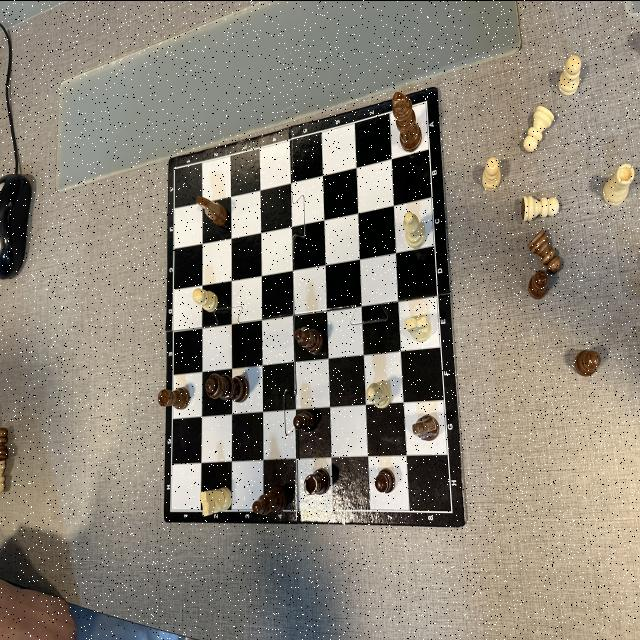Black-Bishop: (252, 485, 287, 514), (295, 326, 324, 354)
Black-King: (392, 91, 422, 151)
Black-Knight: (196, 193, 228, 226), (412, 414, 439, 440)
Black-Pawn: (528, 229, 562, 273), (575, 348, 600, 376), (528, 270, 549, 298), (374, 467, 396, 492), (293, 411, 317, 431)
Black-Queen: (206, 372, 250, 402)
Black-Rook: (304, 467, 329, 495), (158, 388, 190, 408)
White-Bishop: (403, 210, 426, 248), (367, 380, 391, 408)
White-Knight: (201, 484, 232, 516), (404, 314, 432, 342)
White-Pawn: (524, 104, 554, 152), (520, 194, 560, 222), (559, 54, 581, 96), (482, 156, 500, 190), (194, 287, 218, 311)
White-Rook: (602, 162, 634, 205)
